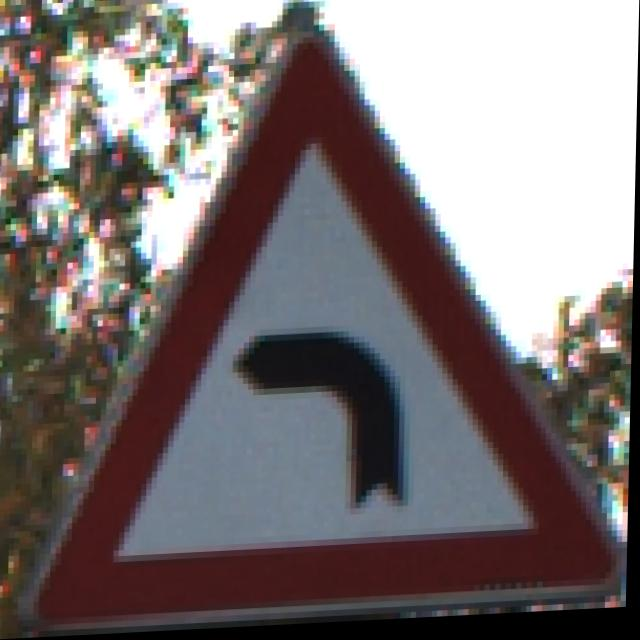left_turn: (46, 17, 631, 597)
